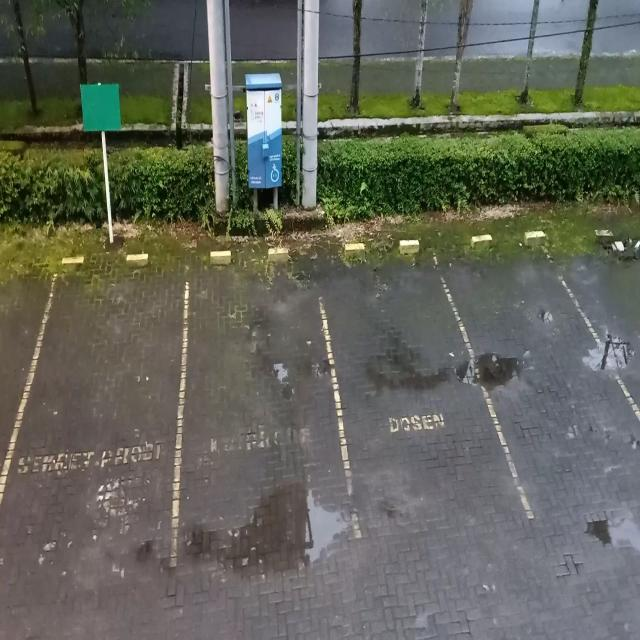empty: (17, 251, 183, 553), (178, 246, 345, 542), (328, 238, 486, 535), (476, 226, 610, 524)
